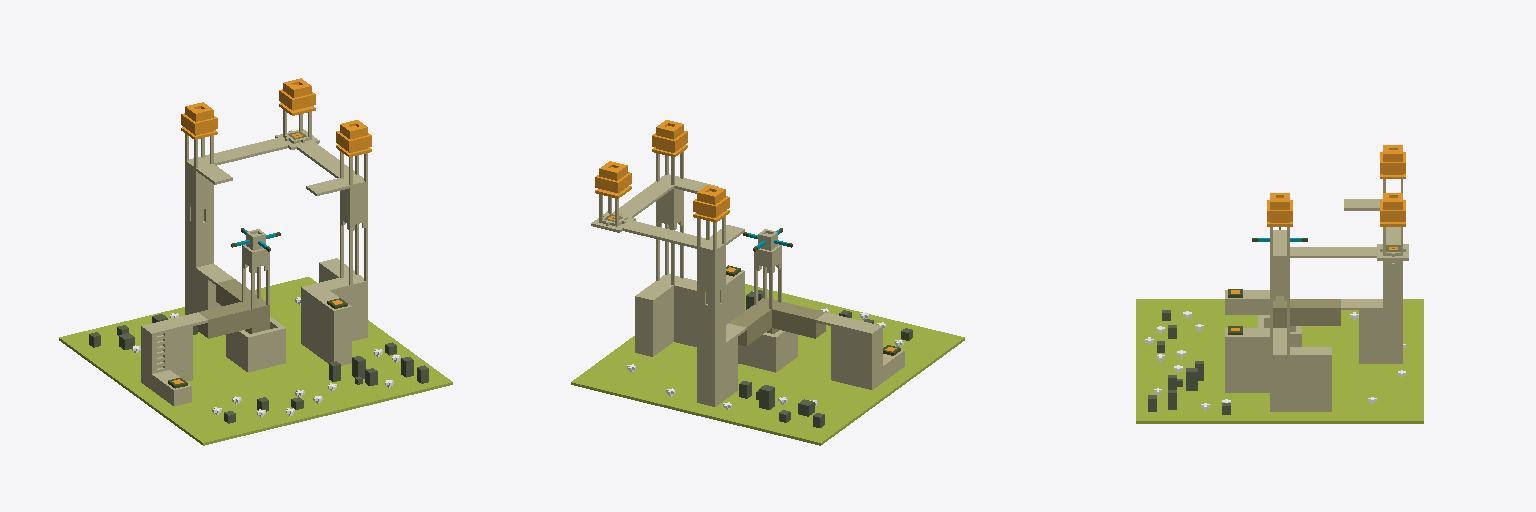
3 views of the same model, side by side, from view 1: azimuth 30°, elevation 25°; view 2: azimuth 150°, elevation 25°; view 3: azimuth 270°, elevation 25° (orthographic).
Visible parts, largest first — view 1: monu9; view 2: monu9; view 3: monu9.
Boxes of the visible parts, <box> form: monu9: <box>59,78,452,445</box>; monu9: <box>571,120,964,445</box>; monu9: <box>1136,145,1423,423</box>.
Bounding box in the file's own units: 97 × 79 × 97.
1 materials, 1 textured.